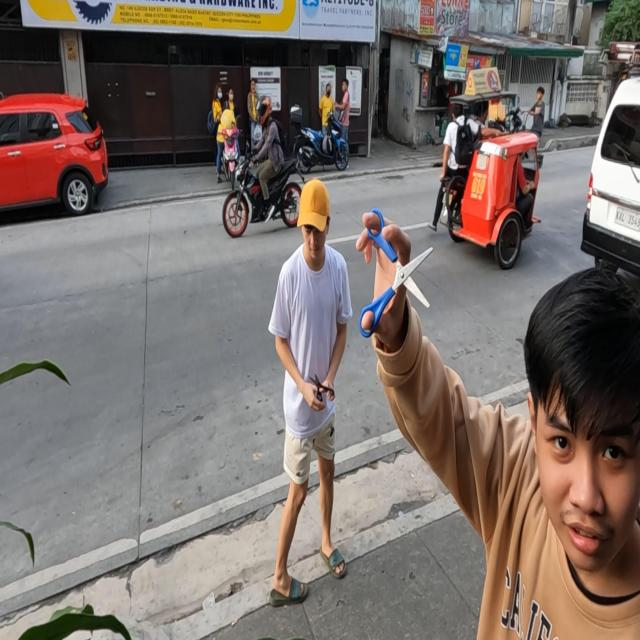scissor: (359, 207, 434, 343), (307, 372, 337, 411)
